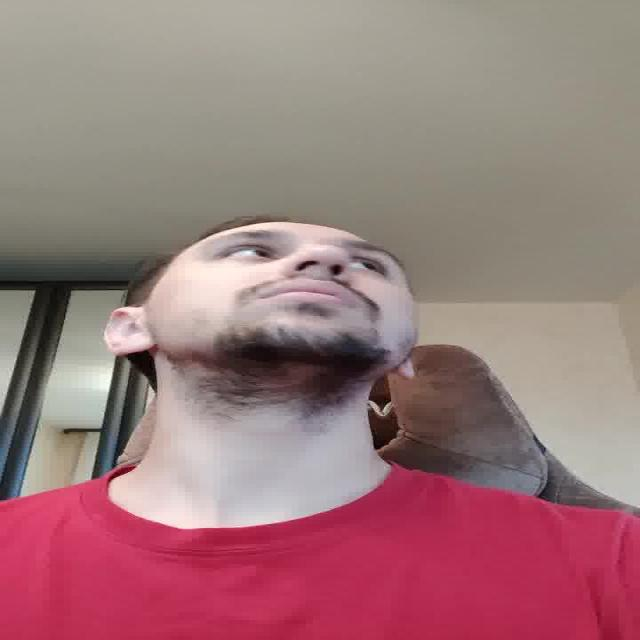earlobe: (104, 307, 154, 356)
